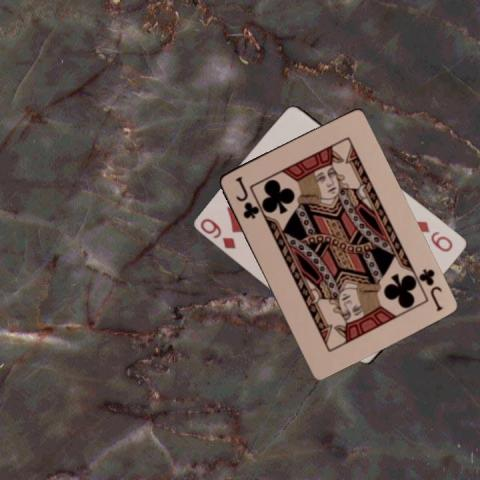9d: (413, 217, 455, 254), (197, 214, 238, 250)
Jc: (415, 265, 444, 313), (232, 173, 259, 221)
